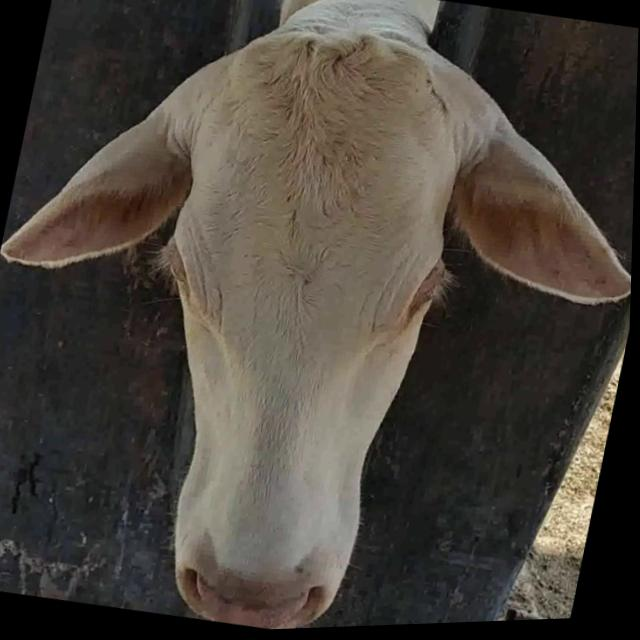cowFace: (106, 3, 497, 636)
